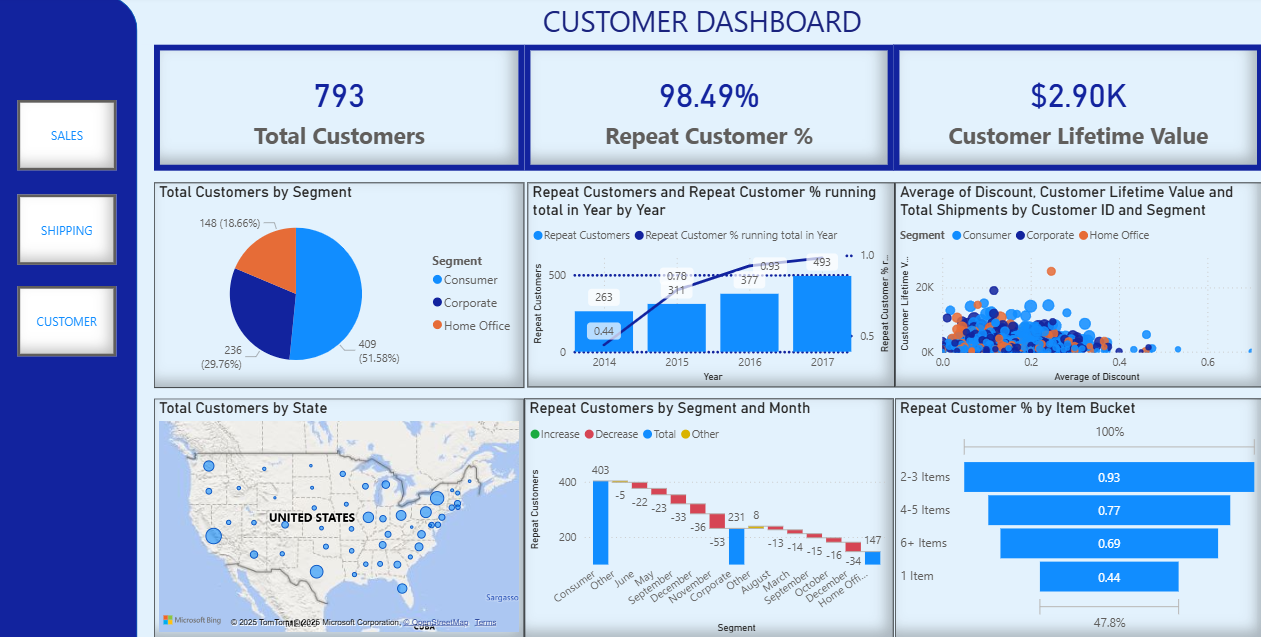

Layout of this report page (visuals, bound fields, positions):
{"tool":"powerbi","page":{"name":"Customer","canvas":[1420,720],"ordinal":2},"visuals":[{"type":"card","fields":{"Values":["Sample - Superstore.Total Customers"]},"box":[178.1,55.4,414.9,141.1],"z":0},{"type":"card","fields":{"Values":["Sample - Superstore.Repeat Customer %"]},"box":[593,55.4,413.2,141.1],"z":1000},{"type":"shape","box":[164.6,0,1254.8,55.4],"z":2000},{"type":"card","fields":{"Values":["Sample - Superstore.Customer Lifetime Value"]},"box":[1006.2,55.4,414,141],"z":3000},{"type":"shape","box":[0,0,159.6,720.6],"z":4000},{"type":"pieChart","fields":{"Category":["Sample - Superstore.Segment"],"Y":["Sample - Superstore.Total Customers"]},"box":[178.1,210,414.9,230.1],"z":5000},{"type":"map","fields":{"Category":["Sample - Superstore.State"],"Size":["Sample - Superstore.Total Customers"]},"box":[178.1,451.9,414.9,268.8],"z":6000},{"type":"lineStackedColumnComboChart","fields":{"Category":["Sample - Superstore.Order Date.Variation.Date Hierarchy.Year"],"Y":["Sample - Superstore.Repeat Customers"],"Y2":["Sample - Superstore.Repeat Customer % running total in Year"]},"box":[595.6,210.2,411.6,229.5],"z":7000},{"type":"waterfallChart","fields":{"Y":["Sample - Superstore.Repeat Customers"],"Category":["Sample - Superstore.Segment"],"Breakdown":["Sample - Superstore.Order Date.Variation.Date Hierarchy.Month"]},"box":[593.8,451.9,413.4,268],"z":8000},{"type":"scatterChart","fields":{"X":["Avg(Sample - Superstore.Discount)"],"Category":["Sample - Superstore.Customer ID"],"Y":["Sample - Superstore.Customer Lifetime Value"],"Size":["Sample - Superstore.Total Shipments"],"Series":["Sample - Superstore.Segment"]},"box":[1007.2,210.2,413.4,229.5],"z":9000},{"type":"funnel","fields":{"Category":["Sample - Superstore.Item Bucket"],"Y":["Sample - Superstore.Repeat Customer %"]},"box":[1007.2,451.9,413.4,268],"z":10000},{"type":"actionButton","box":[25.2,117.6,110.9,79],"z":11000},{"type":"actionButton","box":[24.5,224.2,110.4,78.8],"z":12000},{"type":"actionButton","box":[24.5,325.8,110.4,78.8],"z":13000}]}

Visuals, with their boxes in screenshot pixels (x1, y1, x2, y2):
card - Sample - Superstore.Total Customers: 148:44:523:171
card - Sample - Superstore.Repeat Customer %: 523:44:897:171
shape: 136:0:1260:44
card - Sample - Superstore.Customer Lifetime Value: 897:44:1260:171
shape: 0:0:131:636
pieChart - Sample - Superstore.Segment x Sample - Superstore.Total Customers: 148:183:523:392
map - Sample - Superstore.State x Sample - Superstore.Total Customers: 148:402:523:636
lineStackedColumnComboChart - Sample - Superstore.Order Date.Variation.Date Hierarchy.Year x Sample - Superstore.Repeat Customers: 526:184:898:391
waterfallChart - Sample - Superstore.Repeat Customers x Sample - Superstore.Segment: 524:402:898:636
scatterChart - Avg(Sample - Superstore.Discount) x Sample - Superstore.Customer ID: 898:184:1260:391
funnel - Sample - Superstore.Item Bucket x Sample - Superstore.Repeat Customer %: 898:402:1260:636
actionButton: 10:100:110:171
actionButton: 9:196:109:268
actionButton: 9:288:109:359
